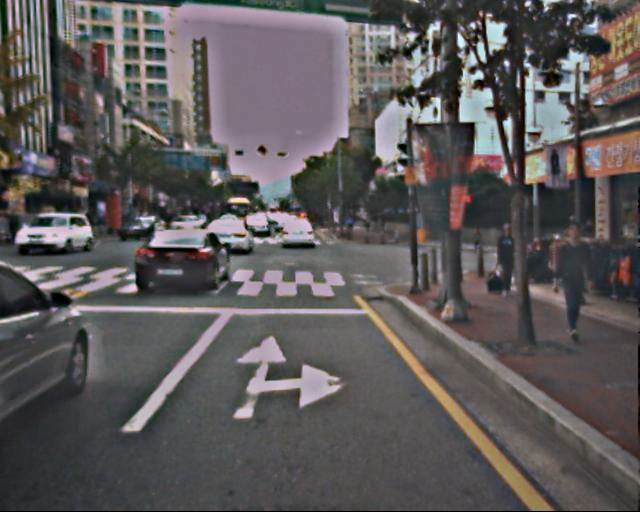person: (547, 221, 599, 343), (492, 220, 523, 296)
